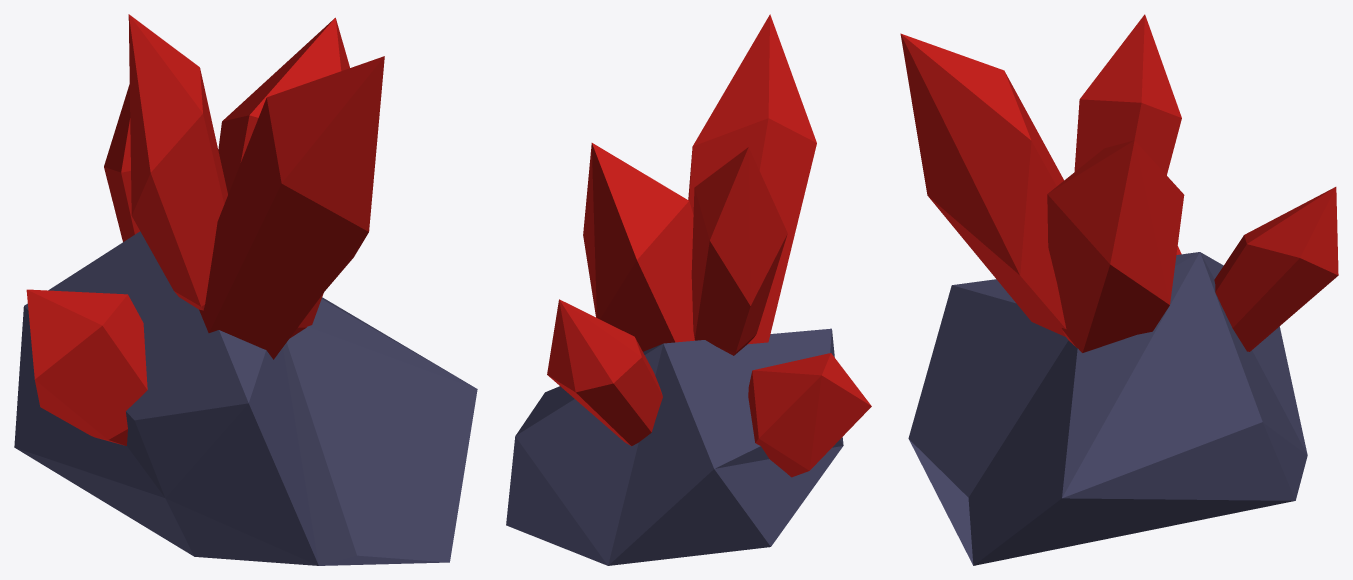
The model's file is CystalSmall1.fbx.
3 renders of one model, left to right at view 1: azimuth 30°, elevation 25°; view 2: azimuth 150°, elevation 25°; view 3: azimuth 270°, elevation 25°, orthographic. The views are drawn at different scales.
Parts seen in each view (by area): view 1: Spindle002; view 2: Spindle002; view 3: Spindle002.
Part boxes in pixels (left/top/right/bottom): Spindle002: left=14, top=14, right=477, bottom=565; Spindle002: left=506, top=14, right=871, bottom=565; Spindle002: left=900, top=14, right=1338, bottom=565.
Size of the model in its own units: 15.43 by 15.95 by 19.58.
